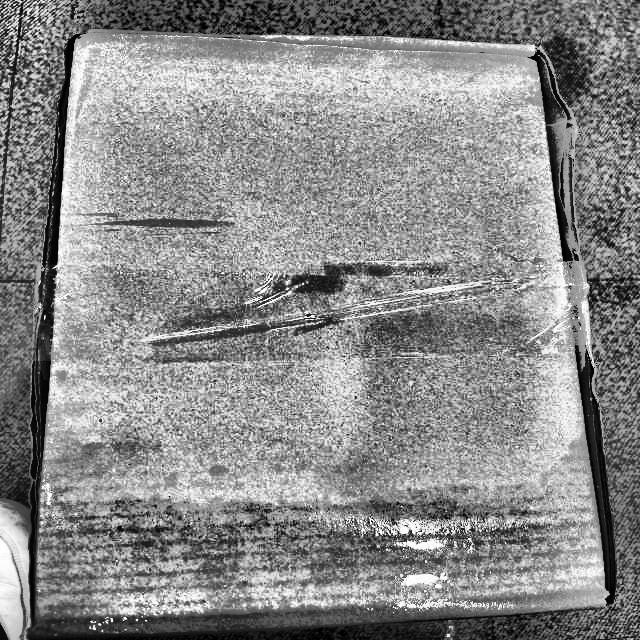box: (29, 25, 621, 639)
wet: (29, 478, 598, 637)
